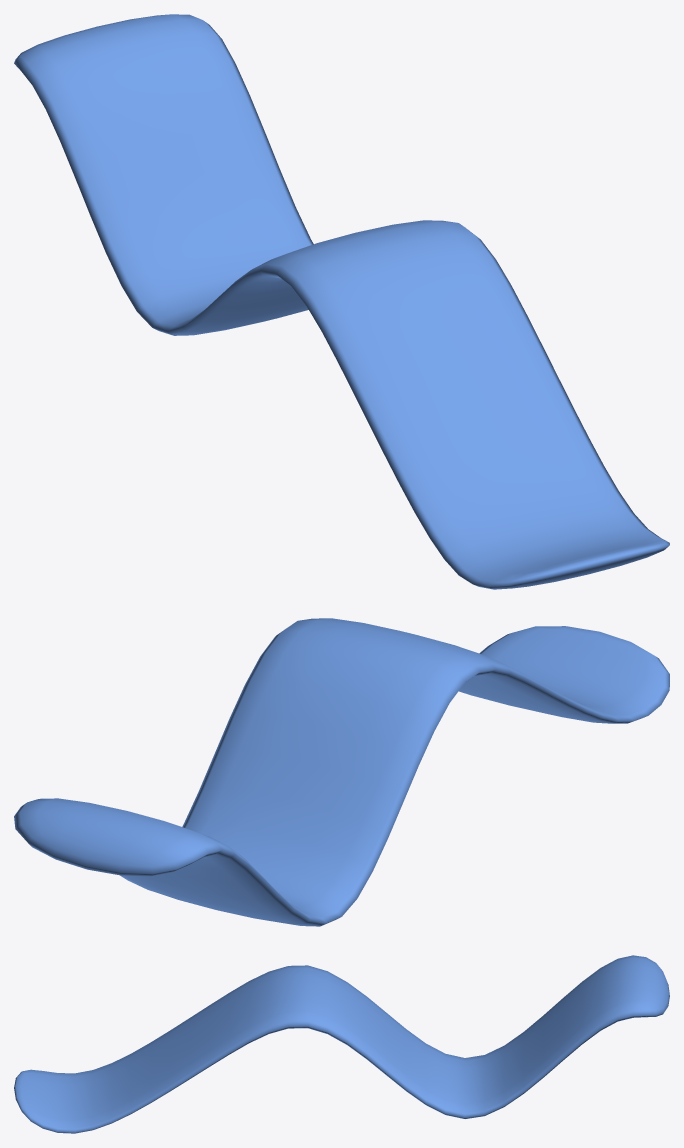
Rendered from slope2.fbx.
3 views of the same model, one above another, from view 1: azimuth 30°, elevation 25°; view 2: azimuth 150°, elevation 25°; view 3: azimuth 270°, elevation 25° (orthographic). The views are drawn at different scales.
Parts seen in each view (by area): view 1: Cube.001; view 2: Cube.001; view 3: Cube.001.
Boxes of the visible parts, left/top/right/bottom form: Cube.001: left=14, top=14, right=669, bottom=589; Cube.001: left=14, top=618, right=669, bottom=926; Cube.001: left=14, top=955, right=669, bottom=1133.
Size of the model in its own units: 748 by 790 by 3518.
